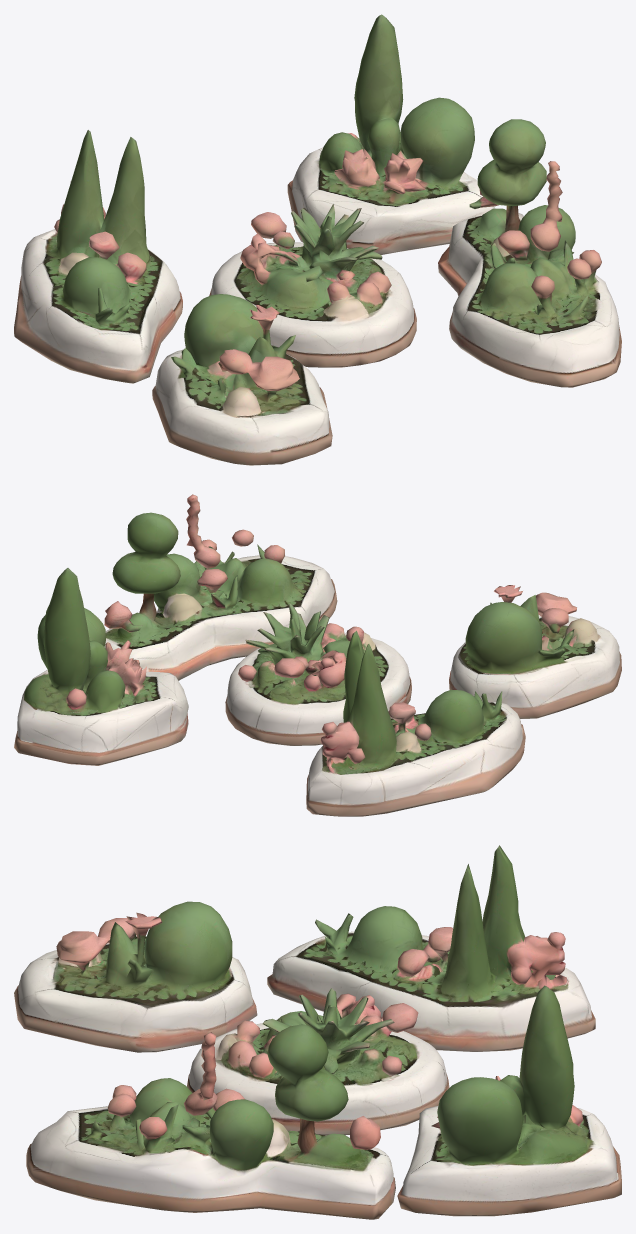
Rendered from signals-garden-bed-compressed.glb.
The picture shows the model from 3 angles, top to bottom: view 1: azimuth 30°, elevation 25°; view 2: azimuth 150°, elevation 25°; view 3: azimuth 270°, elevation 25°; orthographic projection. The views are drawn at different scales.
Parts seen in each view (by area): view 1: Mesh_0; view 2: Mesh_0; view 3: Mesh_0.
Boxes of the visible parts, x1=… form: Mesh_0: x1=14, y1=14, x2=621, y2=465; Mesh_0: x1=14, y1=494, x2=621, y2=816; Mesh_0: x1=14, y1=845, x2=621, y2=1219.
Bounding box in the file's own units: 1.36 × 0.5 × 1.37.
Materials: 1 (1 with a texture image).
